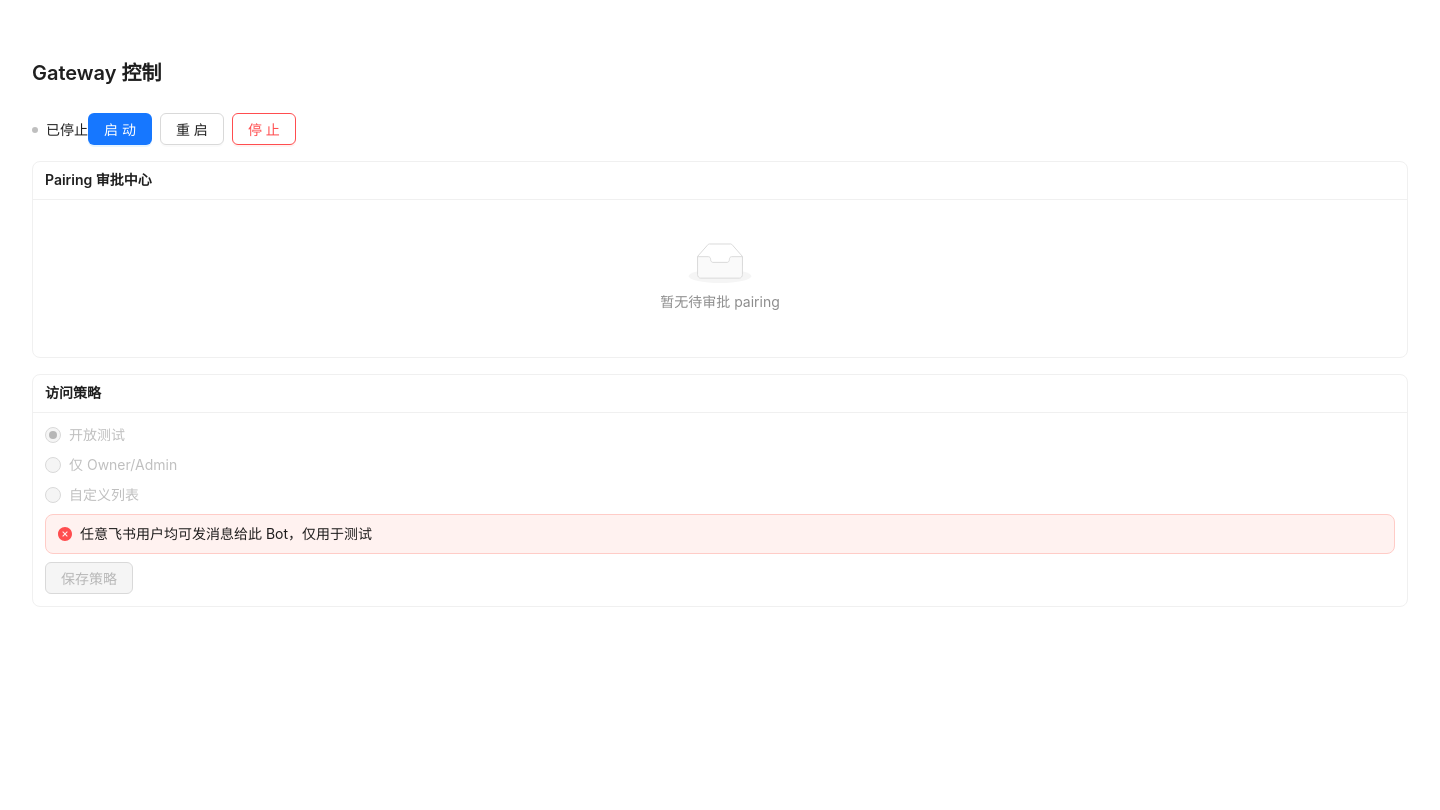
Test: <GatewayControlPanel> › G2: Start → popconfirm → action → drawer with log tail
This screenshot has width=1440, height=810.
Click the button with test id "btn-gateway-start" at (120, 129), box [88,113,152,145]
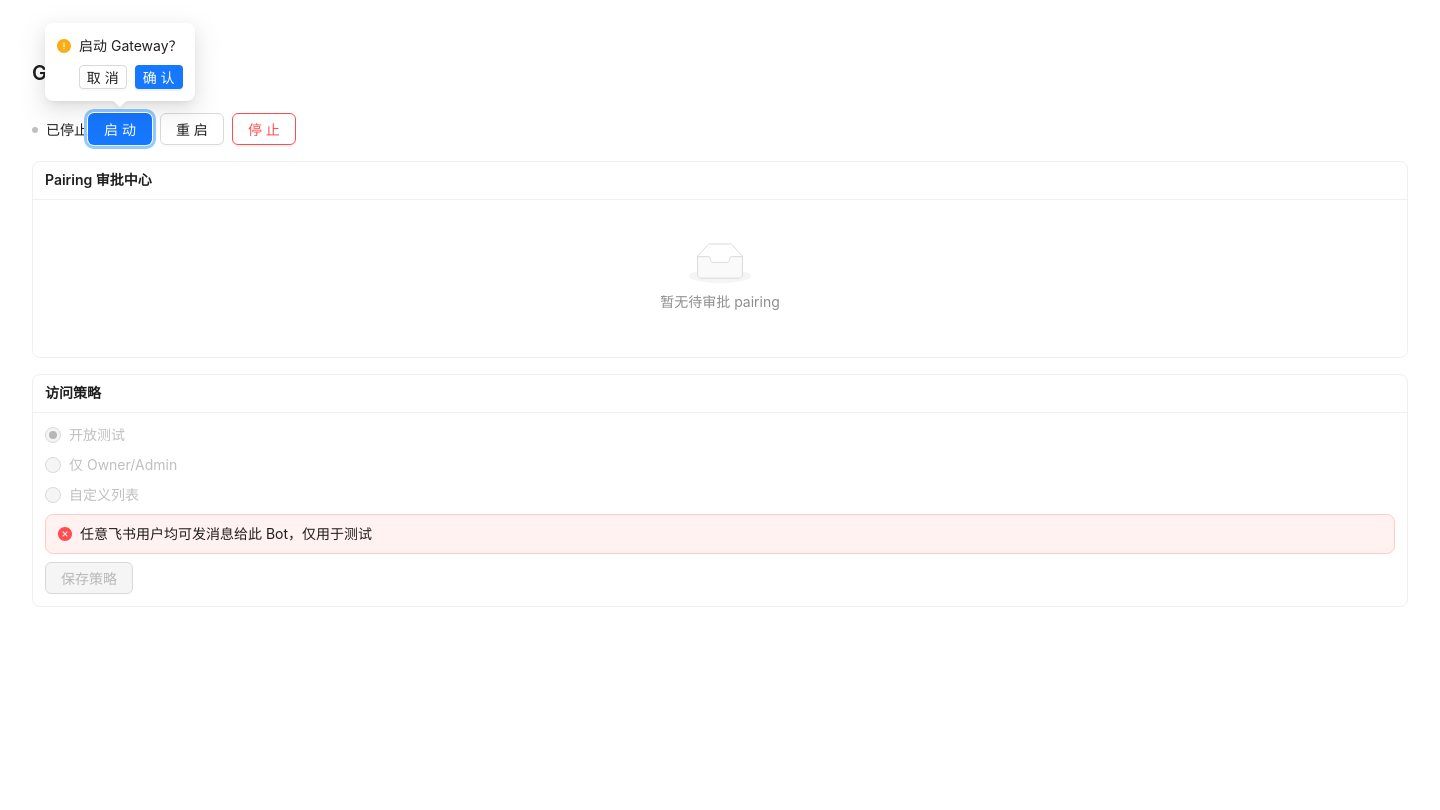
expect the text "启动 Gateway？" is shown: met, box [79,35,183,57]
Click the button "确 认" at (159, 77), box [135,65,182,89]
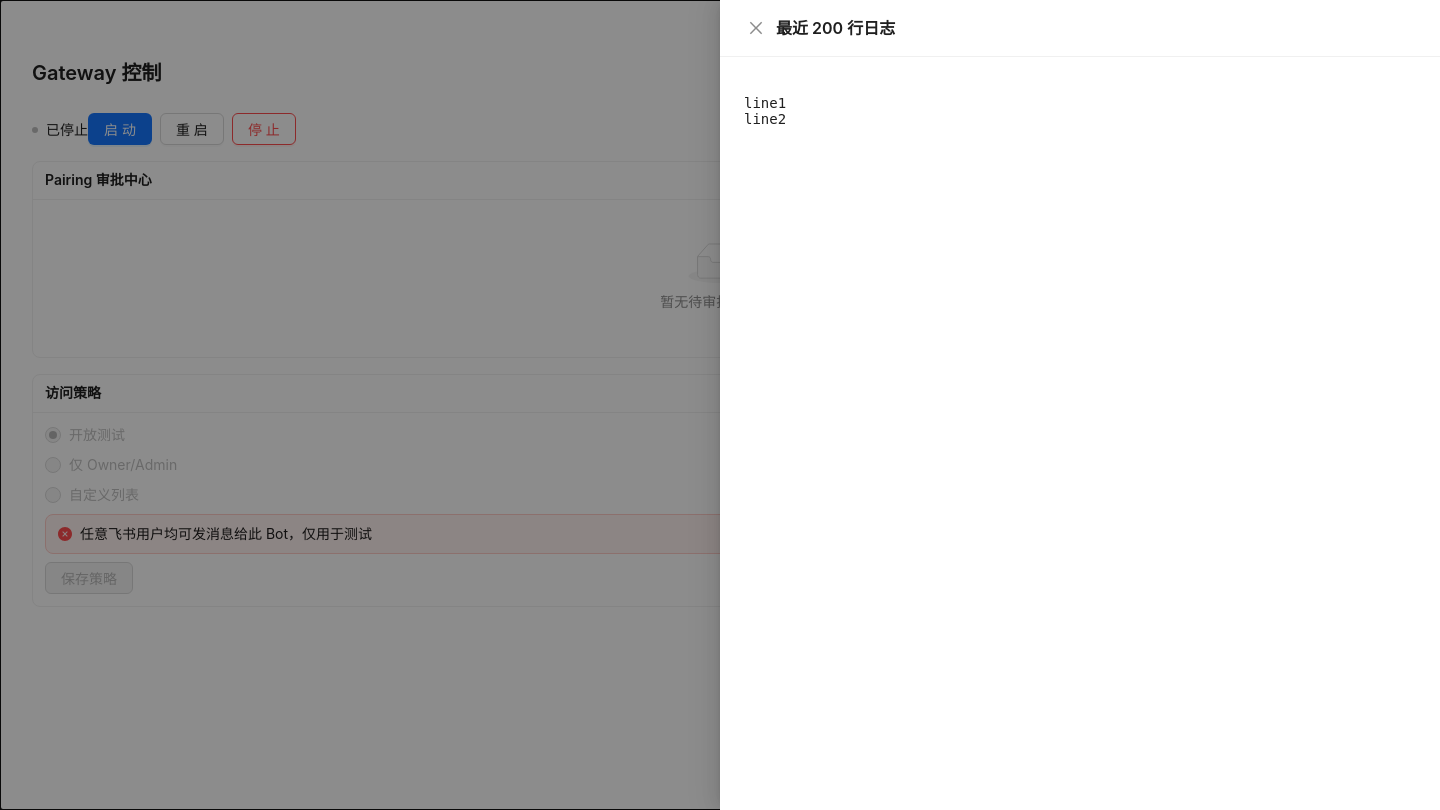
expect the text "line1 line2" is shown: met, box [744,95,786,127]
